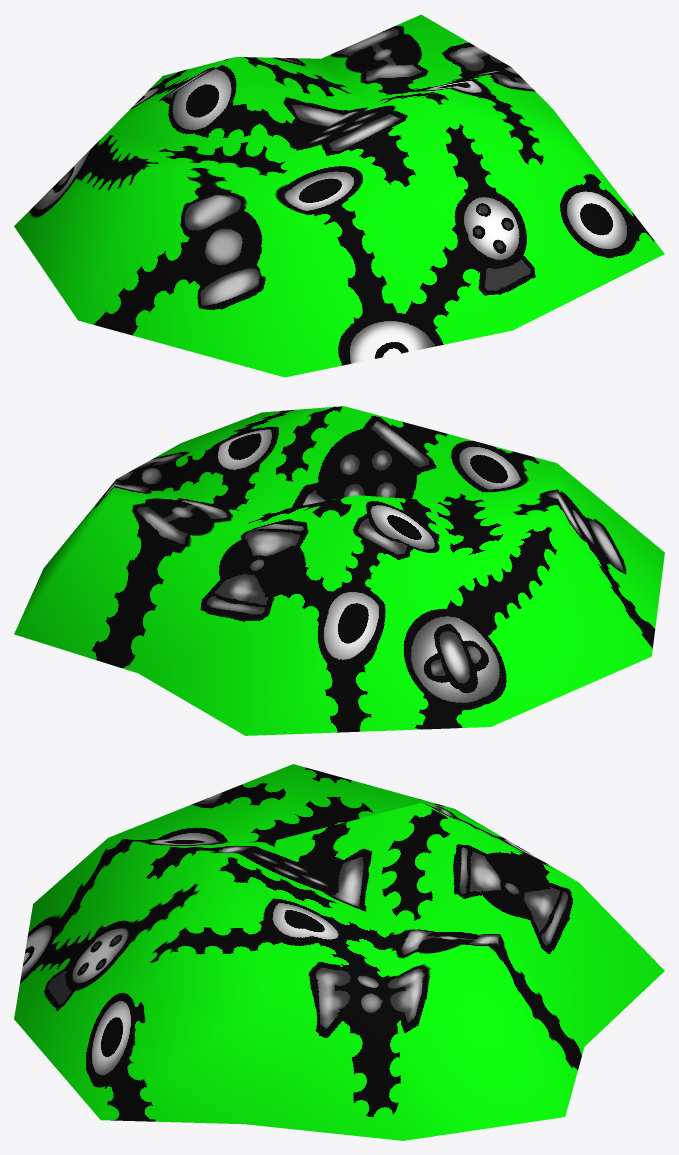
Rendered from RockFix04.fbx.
3 renders of one model, top to bottom at view 1: azimuth 30°, elevation 25°; view 2: azimuth 150°, elevation 25°; view 3: azimuth 270°, elevation 25°, orthographic. The views are drawn at different scales.
Visible parts, largest first — view 1: RockFix01.001; view 2: RockFix01.001; view 3: RockFix01.001.
Part boxes in pixels (box(x1,y1,x2,y2)): RockFix01.001: box(14, 14, 664, 377); RockFix01.001: box(14, 406, 664, 735); RockFix01.001: box(14, 764, 664, 1140).
Size of the model in its own units: 2.62 by 0.7189 by 2.5.
